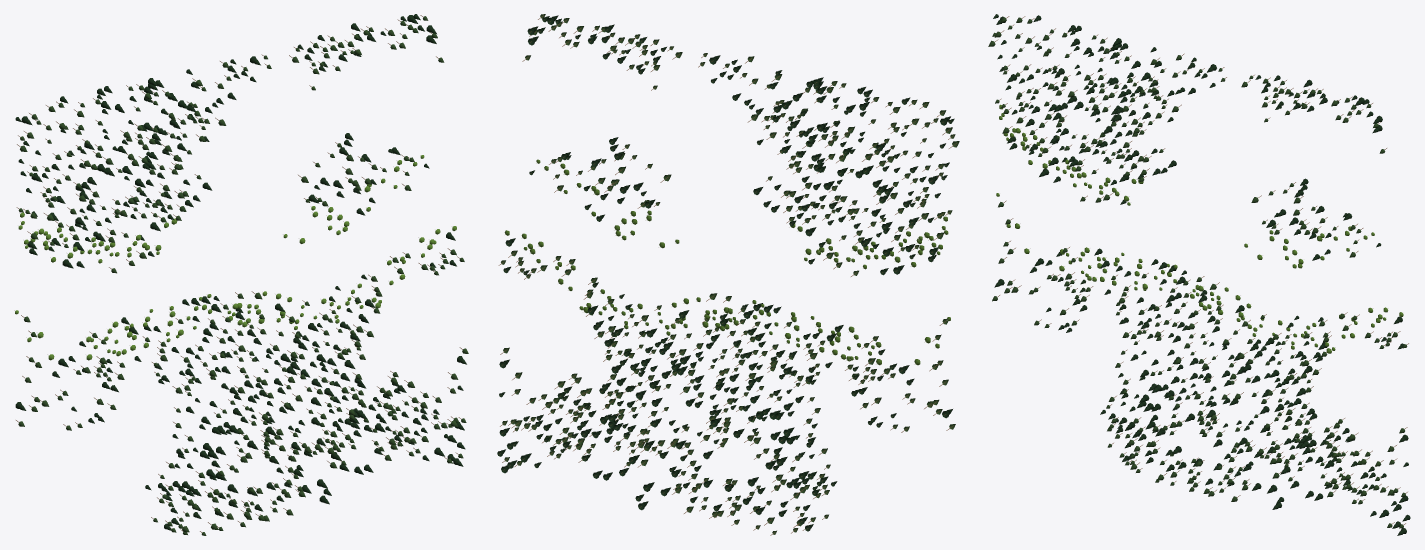
Rendered from forest_5.obj.
The picture shows the model from 3 angles, left to right: view 1: azimuth 30°, elevation 25°; view 2: azimuth 150°, elevation 25°; view 3: azimuth 330°, elevation 25°; orthographic projection. The views are drawn at different scales.
Size of the model in its own units: 555 by 556 by 54.83.
